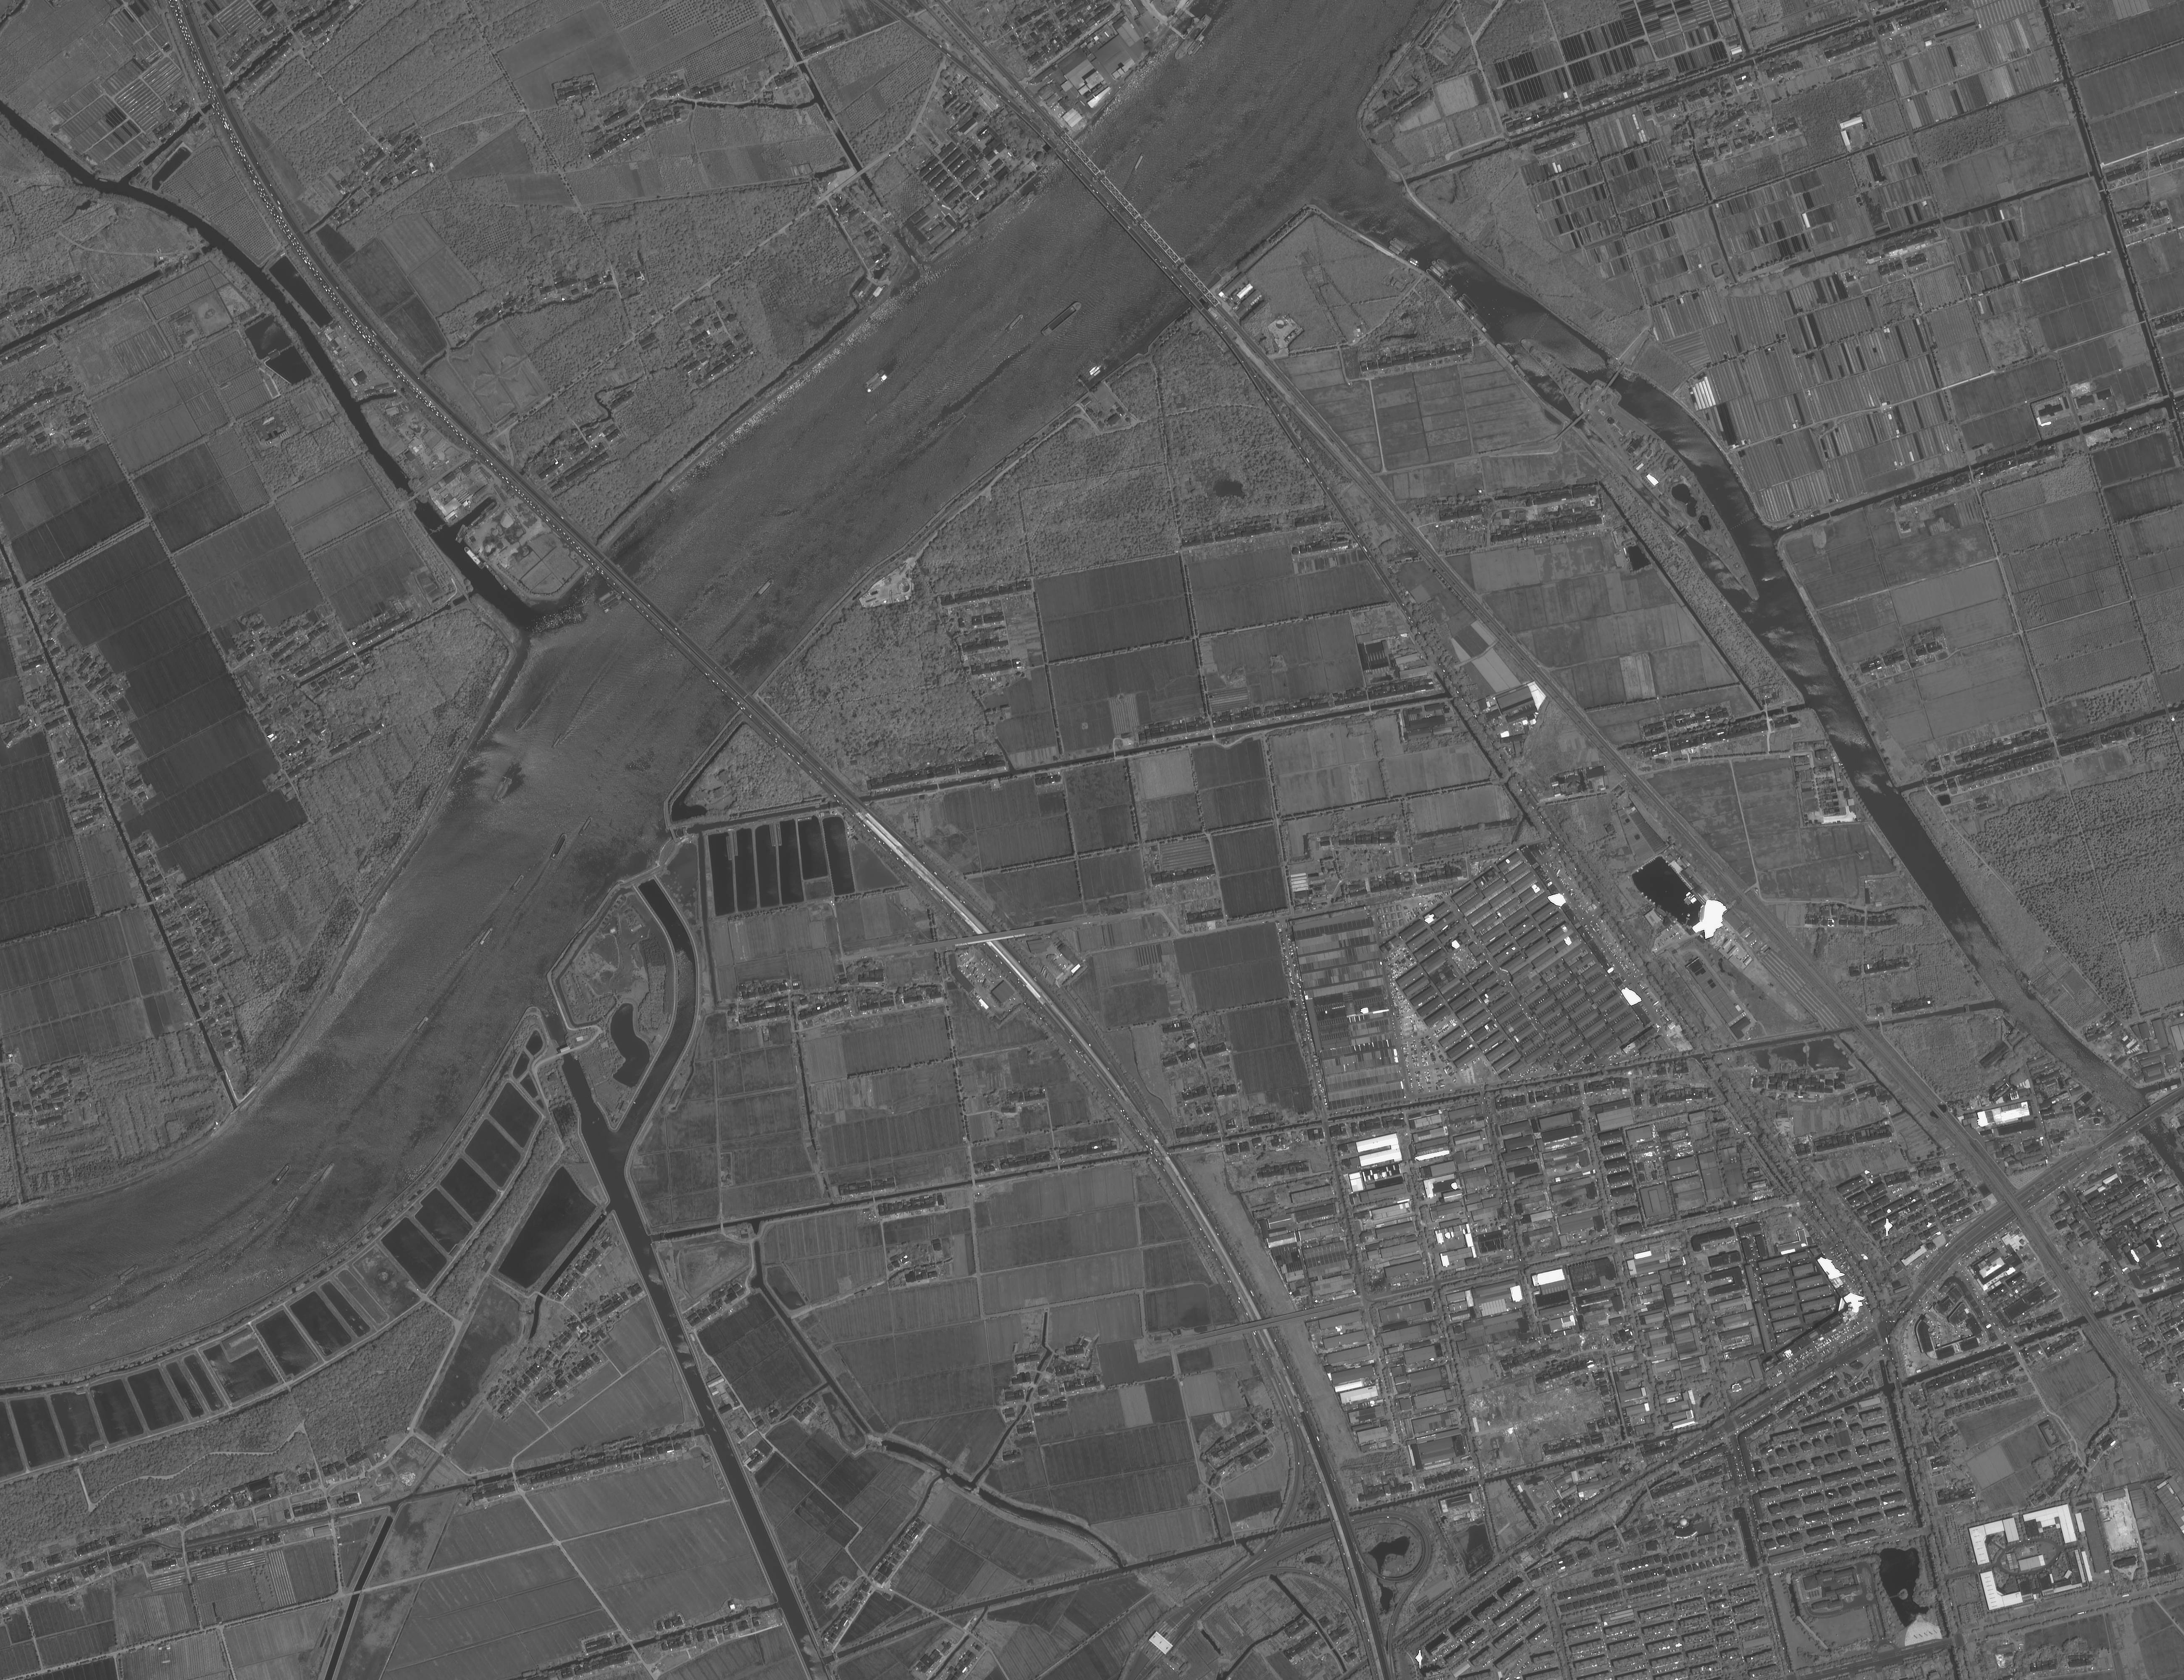bridge: (589, 551, 753, 709), (1066, 138, 1210, 296), (1057, 150, 1200, 305), (2129, 1105, 2161, 1133), (632, 868, 653, 886), (210, 90, 229, 108), (836, 798, 864, 806), (1607, 371, 1621, 388), (1570, 413, 1586, 427), (1328, 1512, 1351, 1521), (1148, 1147, 1171, 1154), (2085, 1311, 2098, 1324), (1702, 1048, 1715, 1059), (857, 166, 868, 176), (231, 1105, 242, 1115), (1856, 1022, 1866, 1032), (1893, 1380, 1904, 1391), (2008, 1339, 2018, 1350), (2133, 1297, 2143, 1308), (1274, 1526, 1284, 1537), (1944, 1638, 1953, 1650), (409, 492, 420, 501), (935, 1611, 946, 1620), (1918, 1526, 1926, 1537), (1851, 1024, 1859, 1032), (1477, 1479, 1487, 1486), (1478, 1091, 1489, 1098), (353, 1588, 363, 1595), (194, 1016, 203, 1024), (1868, 18, 1875, 26), (1320, 1117, 1330, 1122), (289, 28, 296, 35), (198, 109, 205, 116), (16, 586, 23, 593), (1939, 217, 1946, 224), (512, 1470, 517, 1479), (796, 60, 804, 65), (64, 704, 72, 709), (630, 1643, 635, 1650), (1752, 58, 1757, 65), (2078, 429, 2083, 436), (2052, 741, 2059, 746), (2099, 189, 2106, 194), (2165, 709, 2170, 715), (1057, 1165, 1062, 1170), (871, 1196, 877, 1202), (1402, 180, 1408, 185), (148, 902, 155, 905), (2041, 5, 2048, 9), (720, 1223, 723, 1230), (2087, 171, 2091, 178), (1233, 1537, 1237, 1544), (972, 1179, 976, 1184), (1221, 1136, 1224, 1142), (1879, 1022, 1882, 1027), (1212, 734, 1215, 739), (1369, 706, 1372, 711)
ship: (1171, 12, 1214, 64), (1039, 300, 1085, 339), (549, 831, 570, 861), (752, 577, 776, 602), (513, 708, 536, 734), (866, 372, 891, 395), (863, 367, 887, 390), (462, 545, 485, 570), (272, 1163, 293, 1188), (1185, 34, 1207, 56), (1494, 341, 1515, 364), (1431, 259, 1454, 281), (141, 1281, 168, 1299), (496, 776, 513, 803), (593, 588, 616, 607), (411, 1015, 430, 1038), (88, 1294, 113, 1311), (1131, 152, 1147, 178), (492, 775, 508, 801), (1004, 314, 1025, 334), (1436, 258, 1457, 277), (1425, 268, 1447, 288), (116, 1264, 139, 1281), (282, 1195, 300, 1218), (318, 1161, 335, 1184), (187, 1248, 212, 1264), (579, 814, 595, 838), (1473, 312, 1492, 332), (1457, 295, 1477, 314), (1191, 37, 1208, 58), (249, 1216, 268, 1234), (1470, 314, 1487, 334), (1429, 265, 1448, 282), (598, 593, 619, 609), (510, 874, 526, 895), (1392, 236, 1413, 252), (1388, 240, 1410, 256), (480, 499, 497, 517), (1514, 364, 1531, 381), (1462, 293, 1480, 311), (1454, 298, 1471, 316), (602, 595, 621, 611), (478, 926, 494, 946), (550, 732, 566, 752), (1388, 244, 1408, 259), (467, 514, 485, 529), (603, 600, 623, 614), (864, 409, 880, 425), (494, 575, 510, 591), (483, 561, 497, 577), (455, 524, 467, 542), (1087, 369, 1101, 383), (459, 526, 469, 544), (954, 413, 967, 427), (1088, 364, 1103, 376), (0, 1272, 12, 1285), (1408, 259, 1418, 268), (1410, 258, 1420, 265), (99, 178, 108, 184)
